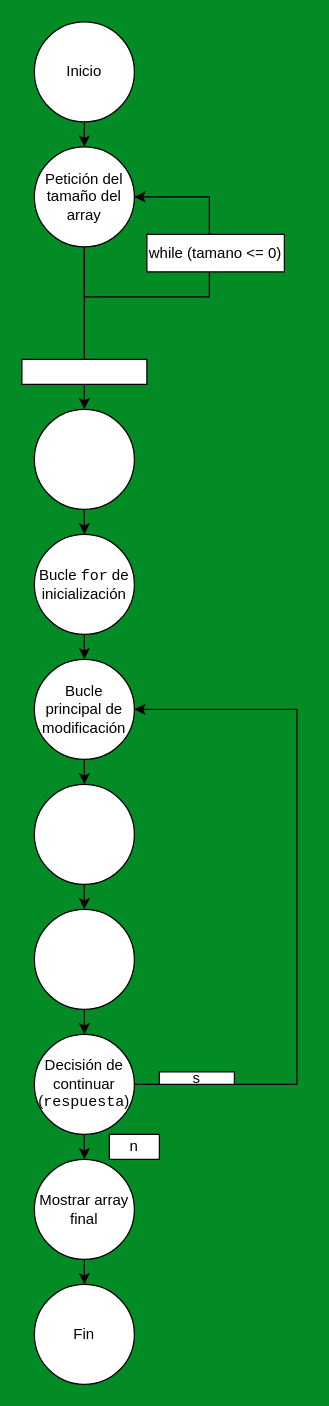
The diagram is 329 pixels wide and 1406 high, and some of its shapes have lost their labels. The box of each missing label's shape, as (x1, y1, x2, y2) in pixels:
Bucle de validación de posición: (33, 783, 134, 884)
Creación del array: (33, 408, 134, 509)
Modificación del array: (33, 908, 134, 1009)
tamano NO <= 0: (21, 358, 147, 384)
